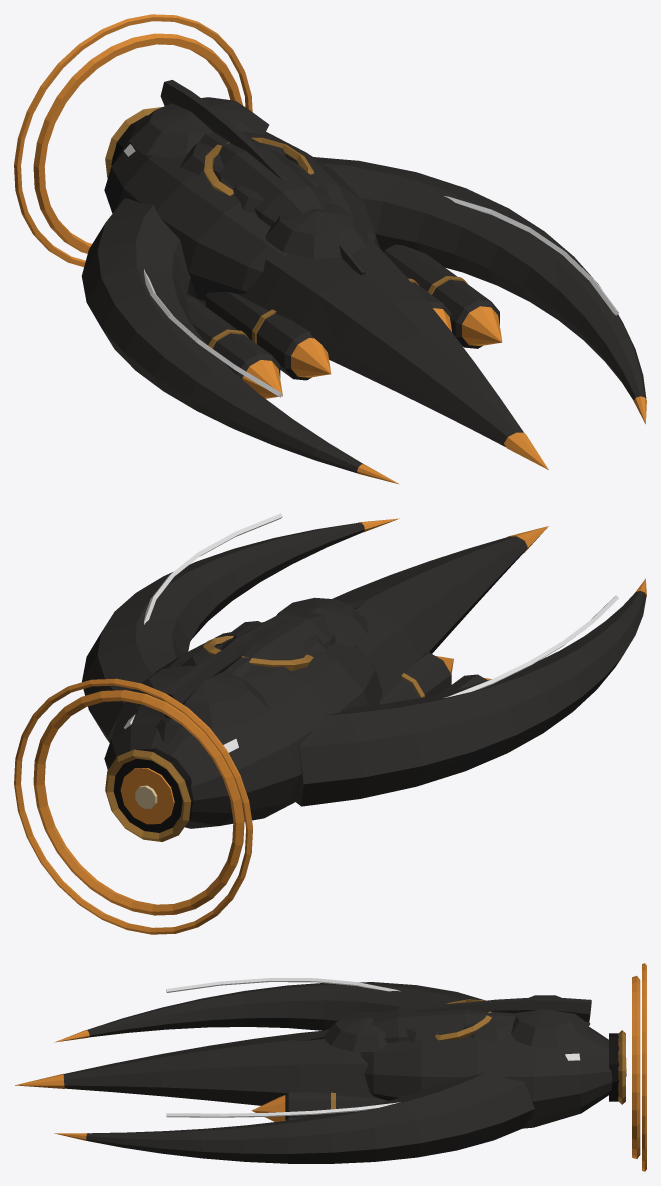
The model's file is fighter_t3.glb.
The picture shows the model from 3 angles, top to bottom: view 1: azimuth 30°, elevation 25°; view 2: azimuth 150°, elevation 25°; view 3: azimuth 270°, elevation 25°; orthographic projection. The views are drawn at different scales.
Parts seen in each view (by area): view 1: body; view 2: body; view 3: body.
Boxes of the visible parts, bbox=[...] form: body: bbox=[14, 14, 646, 484]; body: bbox=[14, 513, 646, 934]; body: bbox=[15, 963, 646, 1171].
Bounding box in the file's own units: 7.97 × 4.43 × 13.44.
